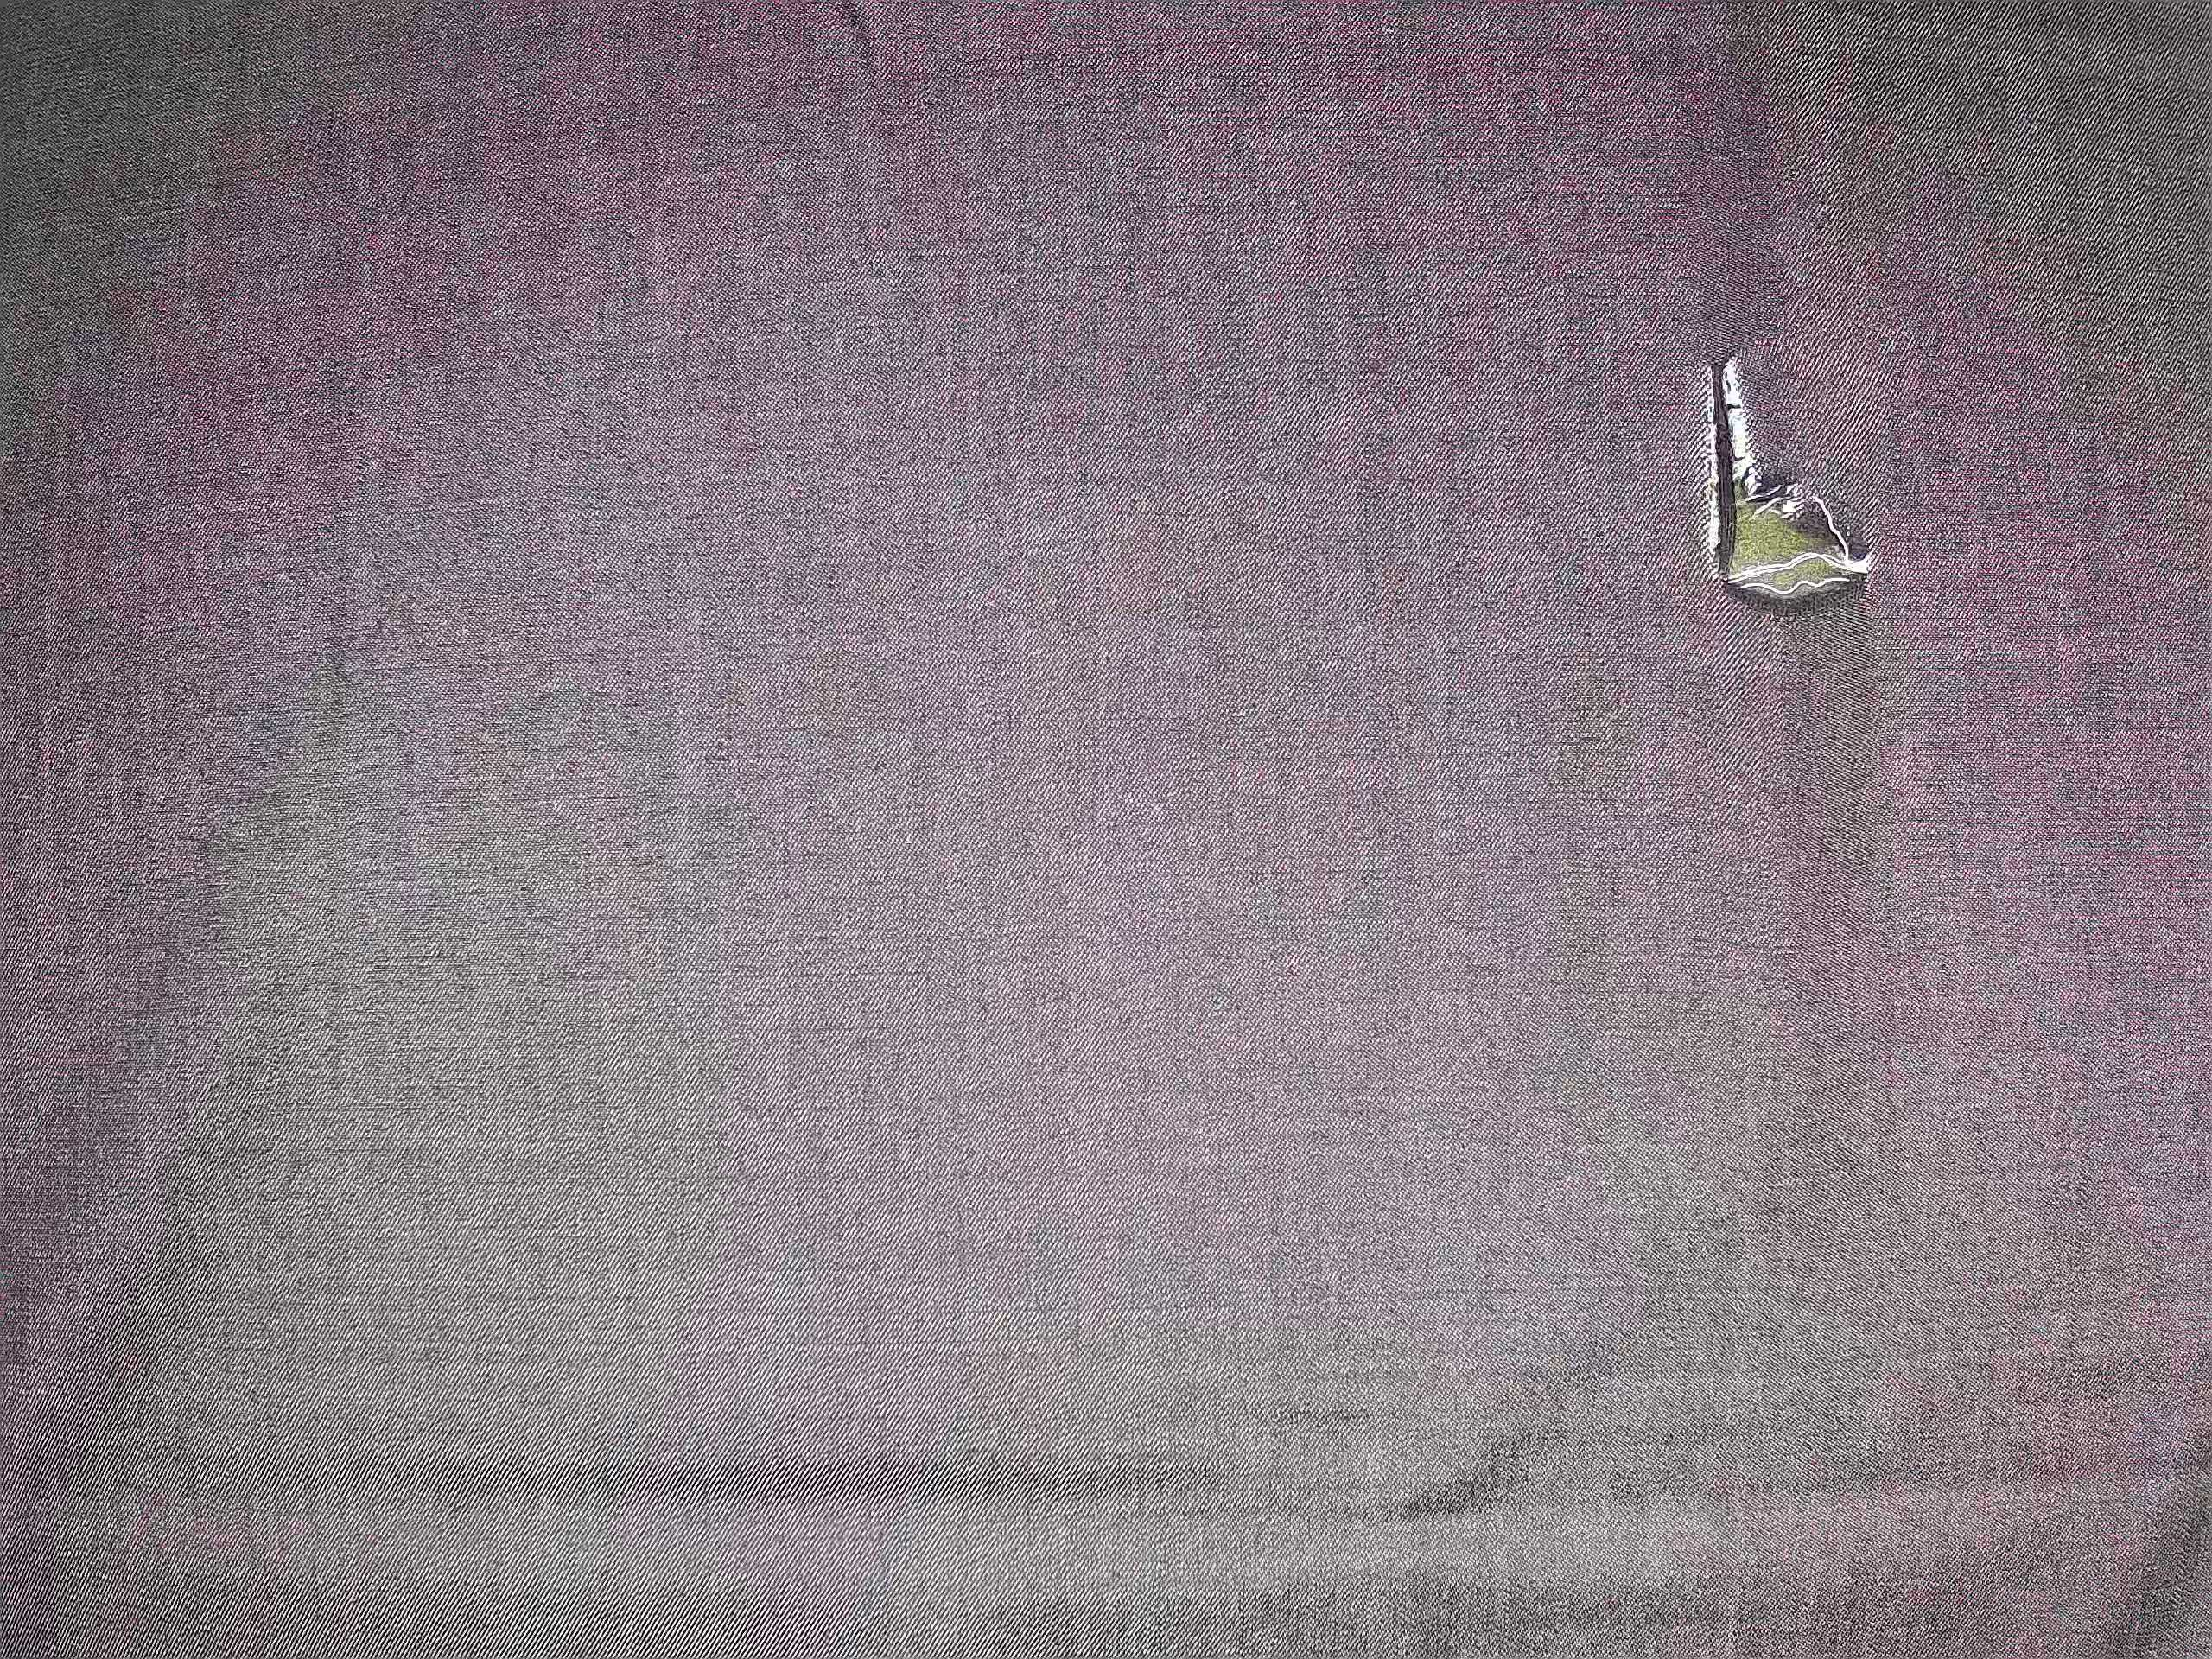puncture-hole: (1683, 254, 1911, 652)
